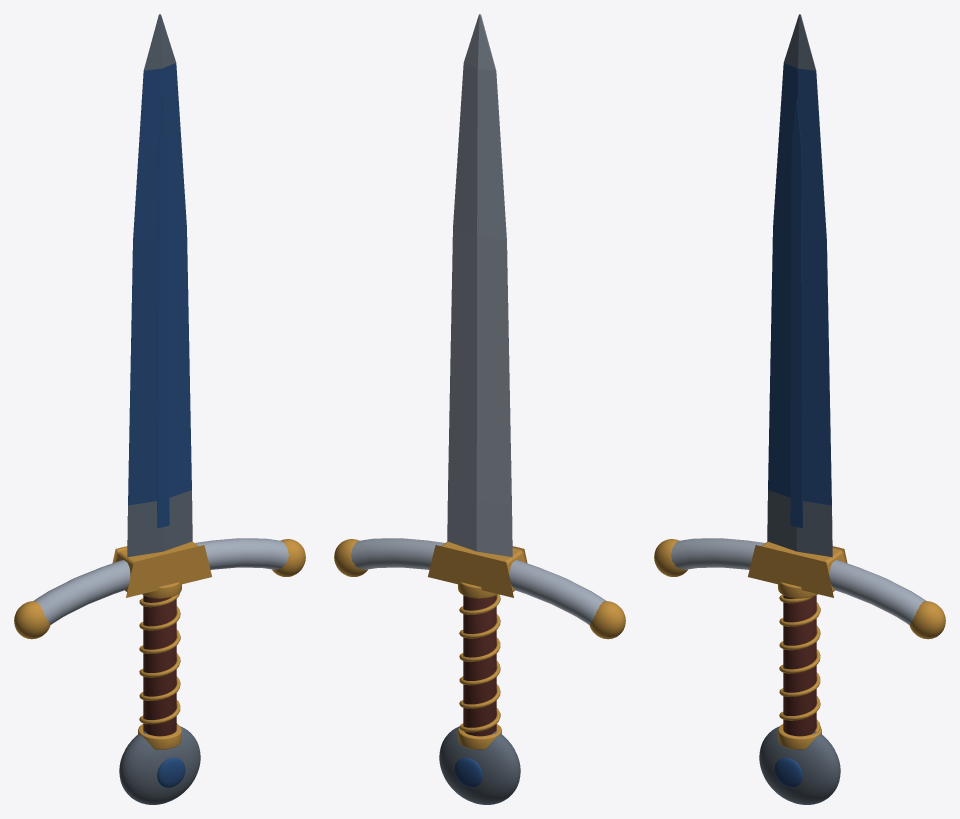
File: royal_vanguard_sword.glb
The picture shows the model from 3 angles, left to right: view 1: azimuth 30°, elevation 25°; view 2: azimuth 150°, elevation 25°; view 3: azimuth 330°, elevation 25°; orthographic projection.
Visible parts, largest first — view 1: RoyalSword_ForgedBlade, RoyalSword_ContinuousCrossguard, RoyalSword_SeatedFuller, RoyalSword_GripCore, RoyalSword_WheelPommel, RoyalSword_IntegratedGuardBlock, RoyalSword_LeatherSpiralWrap, RoyalSword_QuillonL, RoyalSword_QuillonR, RoyalSword_PommelCabochonFront, RoyalSword_LowerGripCollar; view 2: RoyalSword_ForgedBlade, RoyalSword_ContinuousCrossguard, RoyalSword_GripCore, RoyalSword_WheelPommel, RoyalSword_IntegratedGuardBlock, RoyalSword_LeatherSpiralWrap, RoyalSword_QuillonL, RoyalSword_QuillonR, RoyalSword_PommelCabochonBack, RoyalSword_LowerGripCollar; view 3: RoyalSword_ForgedBlade, RoyalSword_ContinuousCrossguard, RoyalSword_SeatedFuller, RoyalSword_GripCore, RoyalSword_WheelPommel, RoyalSword_IntegratedGuardBlock, RoyalSword_LeatherSpiralWrap, RoyalSword_QuillonR, RoyalSword_QuillonL, RoyalSword_PommelCabochonFront, RoyalSword_LowerGripCollar.
Boxes of the visible parts, <box> form: RoyalSword_ForgedBlade: <box>127,14,192,557</box>; RoyalSword_ContinuousCrossguard: <box>34,538,288,624</box>; RoyalSword_SeatedFuller: <box>157,97,169,528</box>; RoyalSword_GripCore: <box>143,595,176,736</box>; RoyalSword_WheelPommel: <box>119,726,200,804</box>; RoyalSword_IntegratedGuardBlock: <box>112,541,211,597</box>; RoyalSword_LeatherSpiralWrap: <box>139,593,180,724</box>; RoyalSword_QuillonL: <box>14,601,50,639</box>; RoyalSword_QuillonR: <box>272,539,305,576</box>; RoyalSword_PommelCabochonFront: <box>157,757,185,787</box>; RoyalSword_LowerGripCollar: <box>138,724,181,749</box>; RoyalSword_ForgedBlade: <box>447,14,512,557</box>; RoyalSword_ContinuousCrossguard: <box>351,538,605,624</box>; RoyalSword_GripCore: <box>463,595,496,736</box>; RoyalSword_WheelPommel: <box>439,726,520,804</box>; RoyalSword_IntegratedGuardBlock: <box>428,541,527,597</box>; RoyalSword_LeatherSpiralWrap: <box>459,594,500,732</box>; RoyalSword_QuillonL: <box>589,601,625,639</box>; RoyalSword_QuillonR: <box>334,539,367,576</box>; RoyalSword_PommelCabochonBack: <box>454,757,482,787</box>; RoyalSword_LowerGripCollar: <box>458,724,501,749</box>; RoyalSword_ForgedBlade: <box>767,14,832,557</box>; RoyalSword_ContinuousCrossguard: <box>671,538,925,624</box>; RoyalSword_SeatedFuller: <box>790,97,802,528</box>; RoyalSword_GripCore: <box>783,595,816,736</box>; RoyalSword_WheelPommel: <box>759,726,840,804</box>; RoyalSword_IntegratedGuardBlock: <box>748,541,847,597</box>; RoyalSword_LeatherSpiralWrap: <box>779,595,820,732</box>; RoyalSword_QuillonR: <box>909,601,945,639</box>; RoyalSword_QuillonL: <box>654,539,687,576</box>; RoyalSword_PommelCabochonFront: <box>774,757,802,787</box>; RoyalSword_LowerGripCollar: <box>778,724,821,749</box>.
Size of the model in its own units: 0.514 by 1.35 by 0.084.
